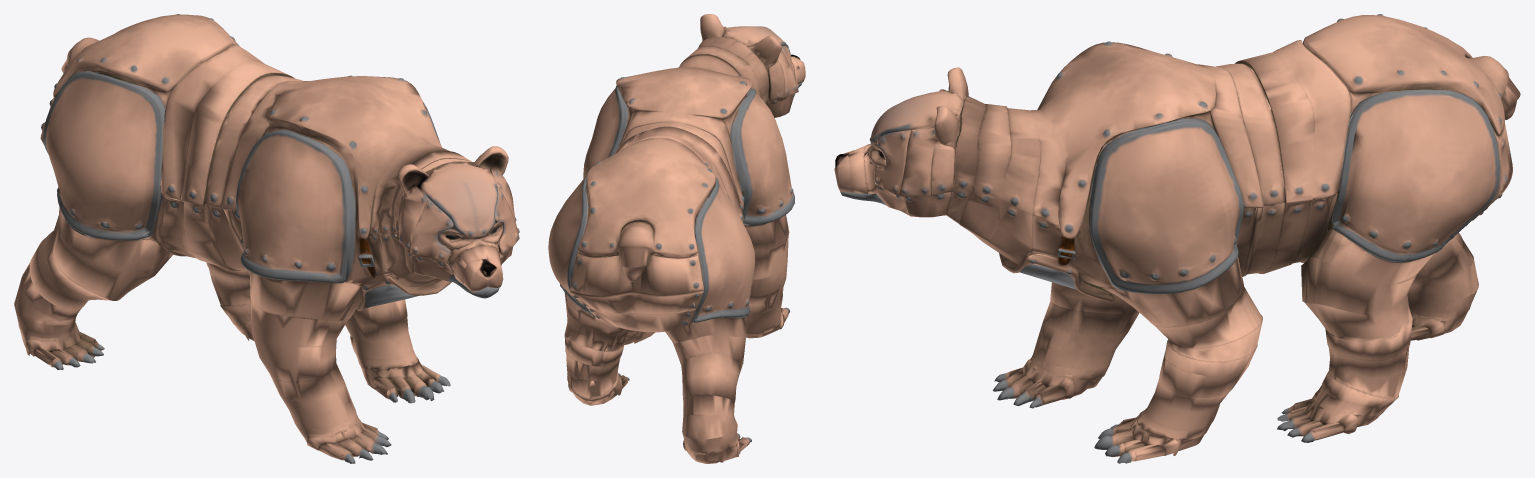
File: MZ4250 - Clockwork Bear - Copper.glb
3 renders of one model, left to right at view 1: azimuth 30°, elevation 25°; view 2: azimuth 150°, elevation 25°; view 3: azimuth 270°, elevation 25°, orthographic. The views are drawn at different scales.
Parts seen in each view (by area): view 1: Clockwork Bear_low.001; view 2: Clockwork Bear_low.001; view 3: Clockwork Bear_low.001.
Boxes of the visible parts, bbox=[...] form: Clockwork Bear_low.001: bbox=[14, 14, 519, 463]; Clockwork Bear_low.001: bbox=[548, 14, 805, 463]; Clockwork Bear_low.001: bbox=[834, 14, 1520, 463].
Size of the model in its own units: 1.08 by 1.13 by 2.
Materials: 1 (1 with a texture image).
